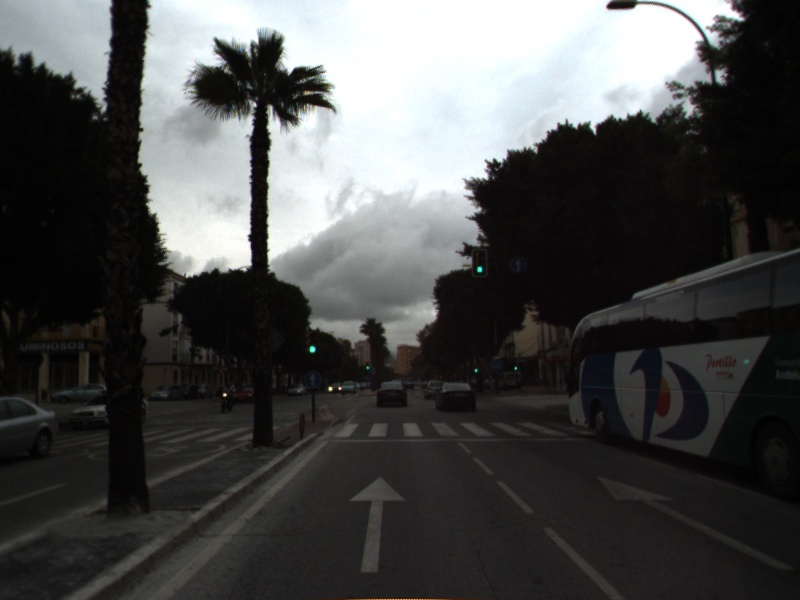STRAIGHT: (593, 471, 797, 574), (345, 471, 410, 577)
